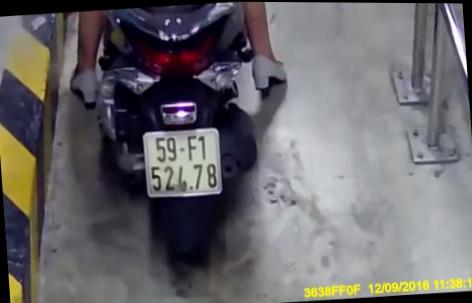LP: (142, 124, 224, 200)
